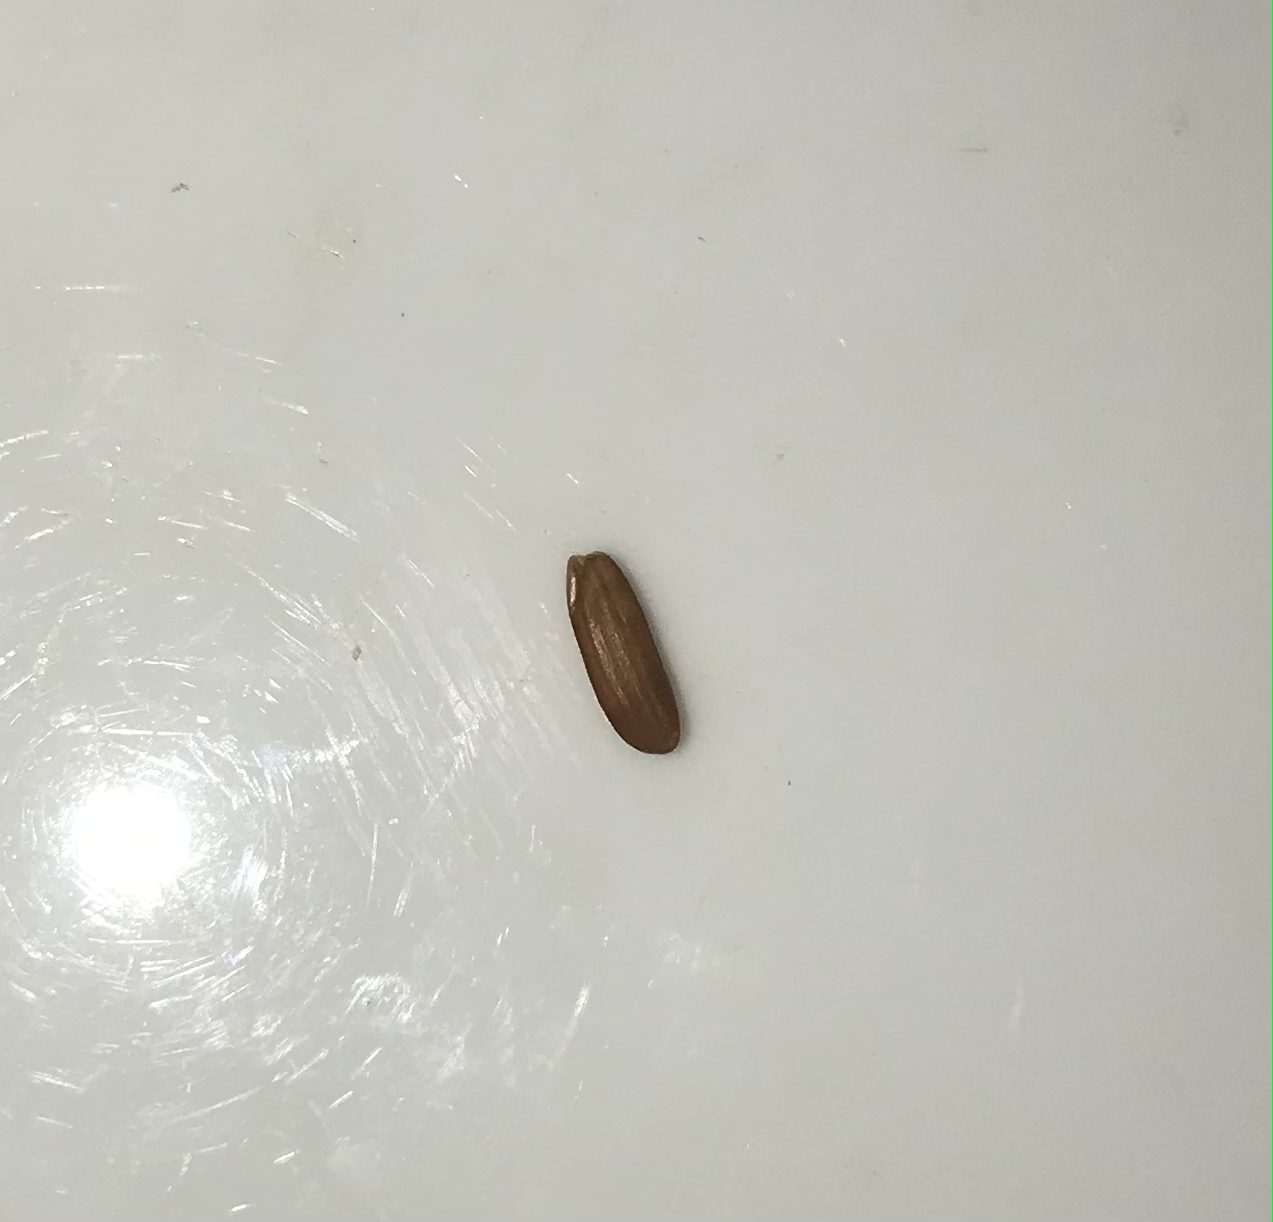Gao Lut Do: (554, 534, 713, 771)
